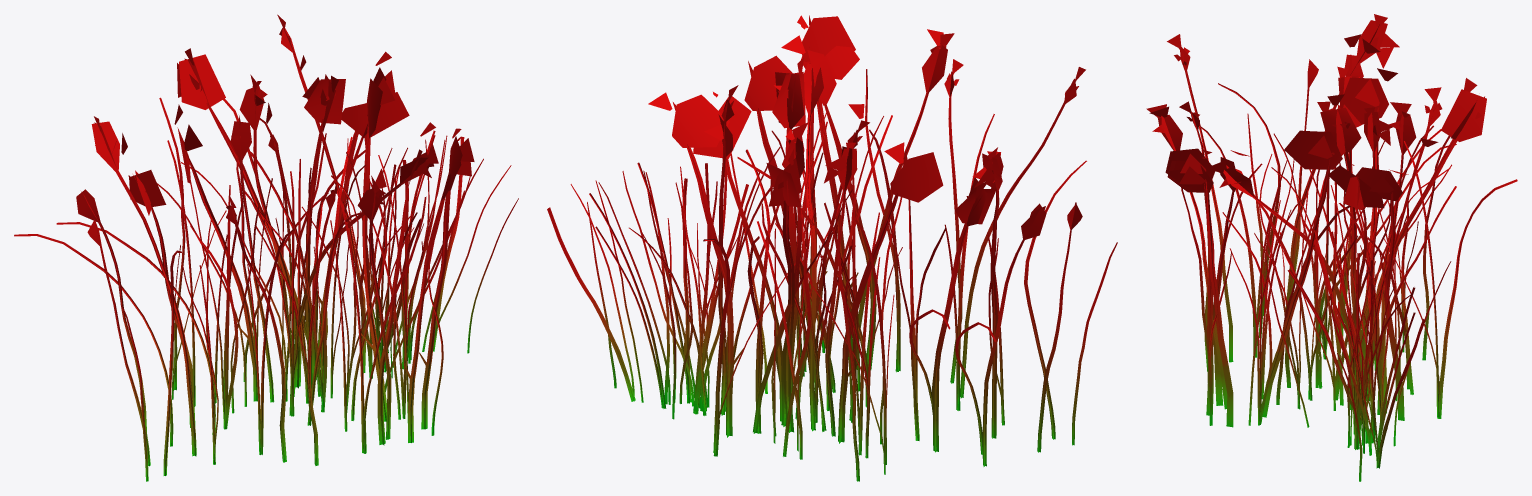
File: Var9_LOD0.fbx
3 views of the same model, side by side, from view 1: azimuth 30°, elevation 25°; view 2: azimuth 150°, elevation 25°; view 3: azimuth 270°, elevation 25° (orthographic). The views are drawn at different scales.
Parts seen in each view (by area): view 1: _53f9_Var9_LOD0; view 2: _53f9_Var9_LOD0; view 3: _53f9_Var9_LOD0.
Part boxes in pixels (x1,y1,x2,y2): _53f9_Var9_LOD0: (14,14,518,481); _53f9_Var9_LOD0: (547,15,1117,481); _53f9_Var9_LOD0: (1146,14,1517,481).
Size of the model in its own units: 291 by 214 by 220.
